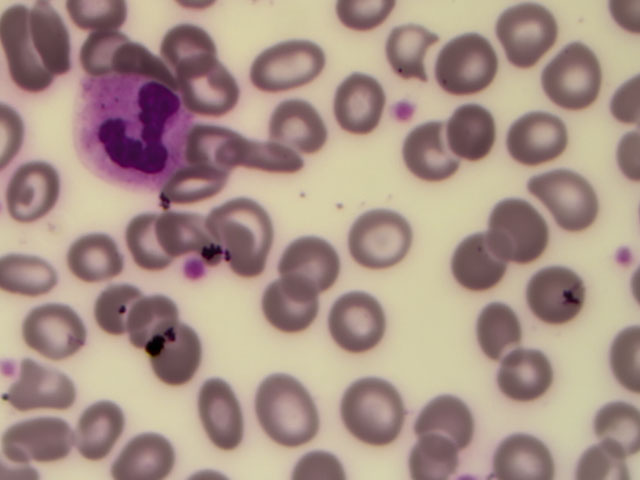Platelets: (604, 237, 640, 278), (179, 258, 215, 289), (393, 99, 419, 124), (1, 345, 19, 375)
RBC: (3, 12, 63, 74), (64, 12, 124, 74), (165, 10, 225, 72), (177, 48, 237, 110), (262, 34, 322, 96), (265, 93, 325, 155), (237, 127, 297, 189), (191, 116, 251, 178), (166, 166, 226, 228), (117, 204, 177, 266), (155, 188, 215, 250), (215, 202, 275, 264), (56, 219, 116, 281), (4, 243, 64, 305), (7, 151, 67, 213), (25, 299, 85, 361), (78, 275, 138, 337), (127, 281, 187, 343), (144, 326, 204, 388), (78, 394, 138, 456), (8, 407, 68, 469), (20, 358, 80, 420), (113, 418, 173, 480), (187, 376, 247, 438), (256, 380, 316, 442), (260, 270, 320, 332), (295, 227, 355, 289), (331, 295, 391, 357), (356, 203, 416, 265), (452, 227, 512, 289), (489, 198, 549, 260), (547, 154, 607, 216), (517, 107, 577, 169), (442, 107, 502, 169), (413, 116, 473, 178), (543, 53, 603, 115), (499, 12, 559, 74), (435, 31, 495, 93), (370, 16, 430, 78), (330, 74, 390, 136), (520, 260, 580, 322), (469, 301, 529, 363), (492, 337, 552, 399), (580, 391, 640, 453), (492, 418, 552, 480), (405, 418, 465, 480), (418, 389, 478, 451), (342, 380, 402, 442), (556, 441, 640, 480), (614, 324, 640, 400)
WBC: (78, 76, 188, 192)
